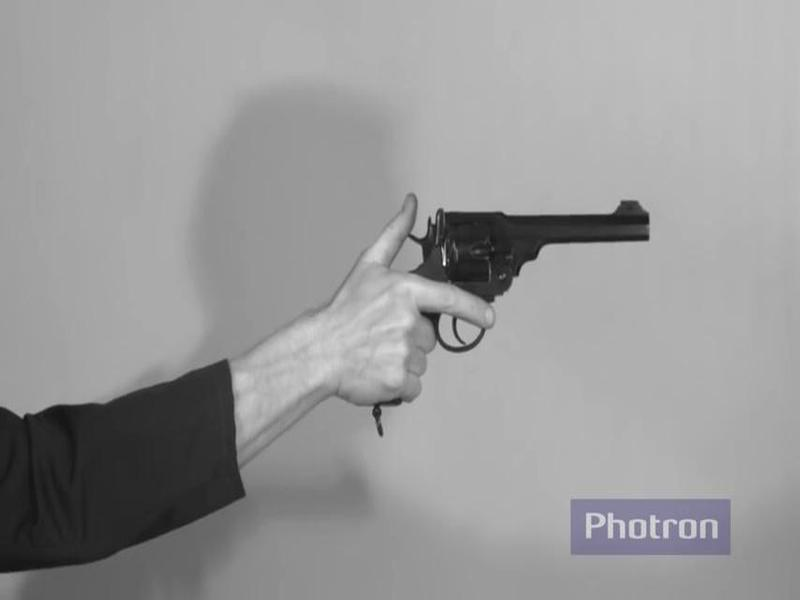Revolver: (352, 190, 665, 435)
